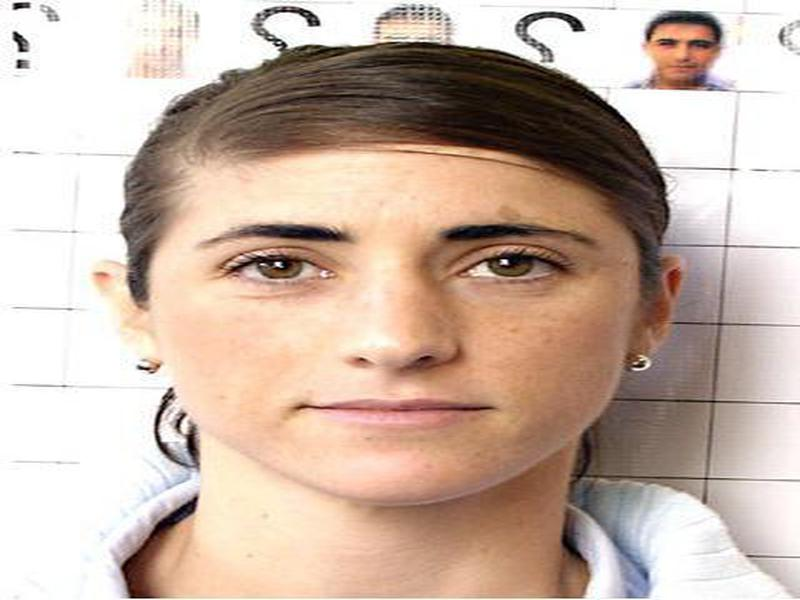without_mask: (155, 140, 627, 504)
